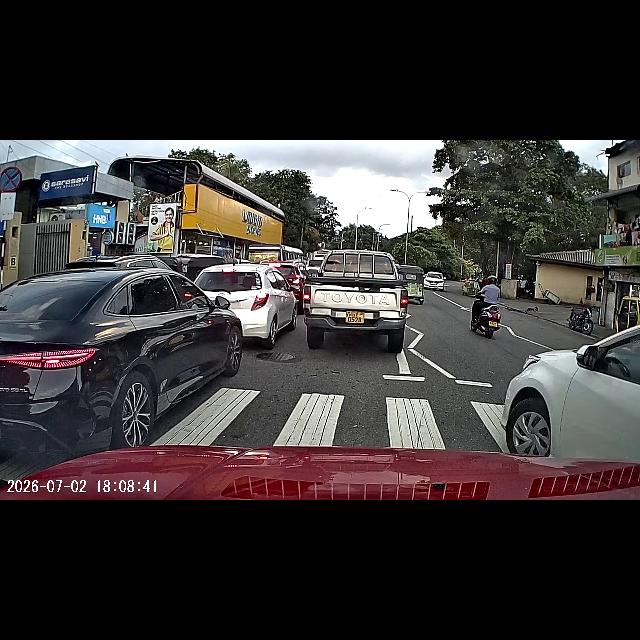car: (76, 284, 206, 396), (530, 346, 636, 458), (323, 250, 395, 346), (245, 266, 275, 346)
crosswalk: (245, 394, 483, 450)
helmet: (489, 278, 497, 286)
motorcycle: (471, 304, 499, 336)
number_plate: (344, 311, 366, 329), (486, 316, 498, 328)
person: (487, 272, 497, 314)
three_wheeler: (402, 266, 422, 298)
